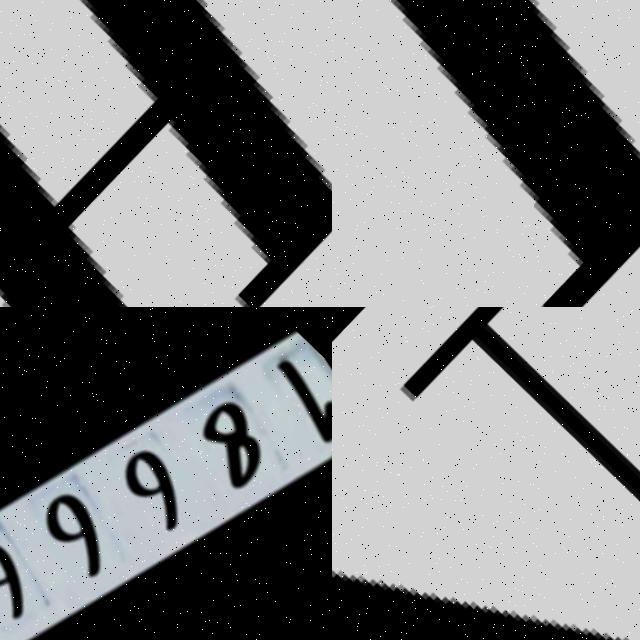1: (243, 321, 332, 460)
6: (13, 464, 146, 599), (92, 419, 222, 552), (0, 517, 64, 639)
8: (165, 366, 306, 509)
H: (0, 0, 332, 307)
N: (332, 307, 640, 640)
U: (332, 0, 640, 307)
